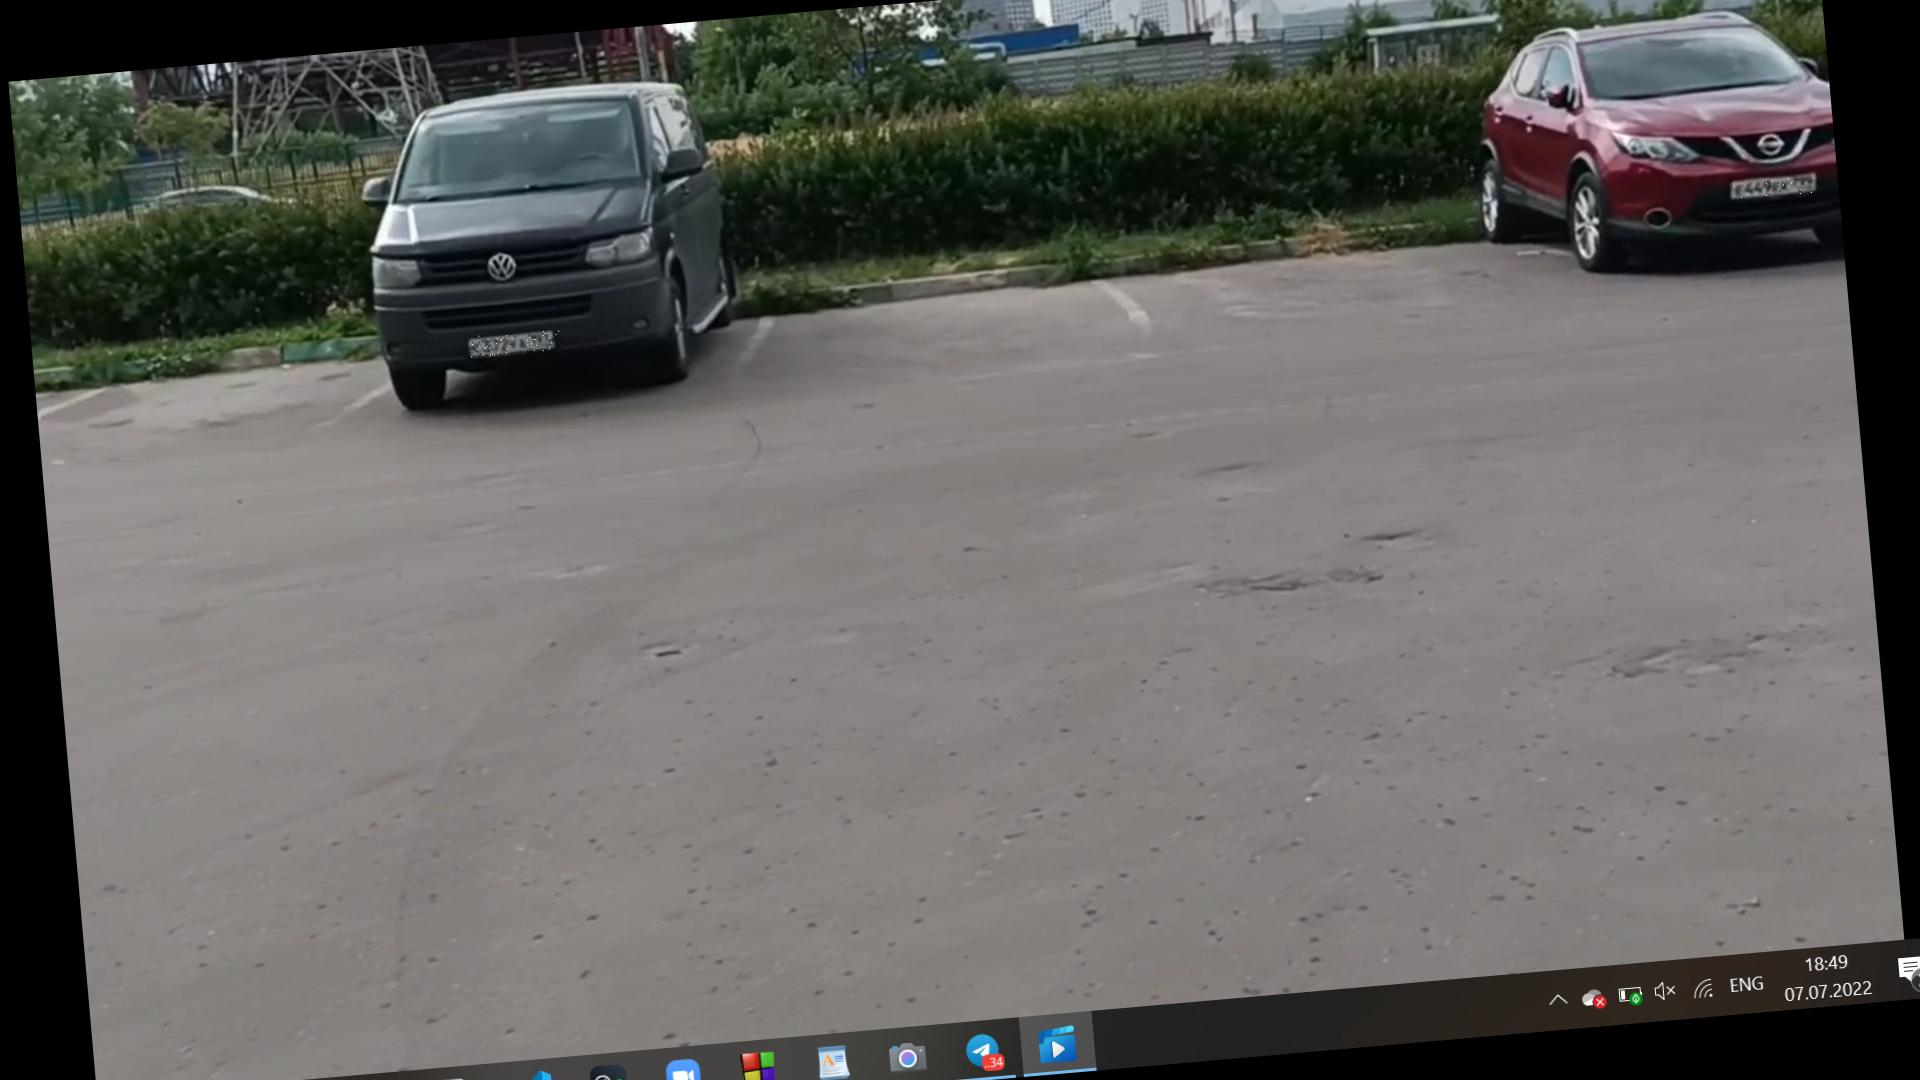plate: (462, 330, 564, 359), (1733, 175, 1817, 207)
